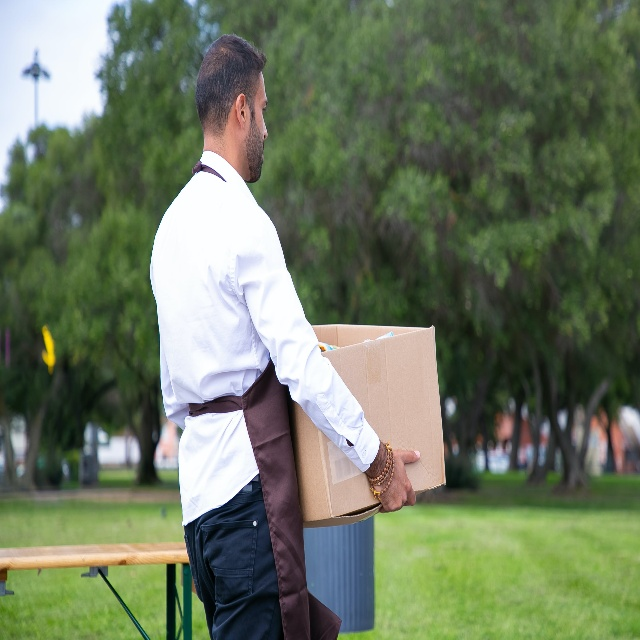Sin_guantes: (373, 448, 420, 514)
